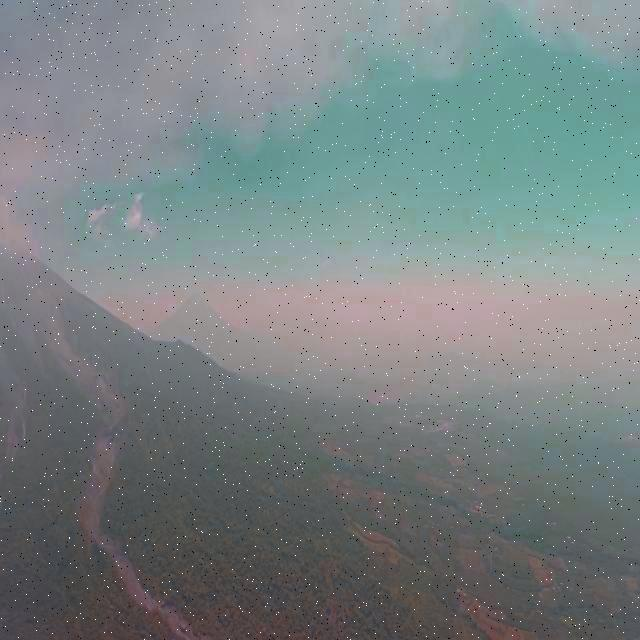Plume: (0, 0, 491, 190), (506, 0, 636, 123), (0, 181, 33, 251)
